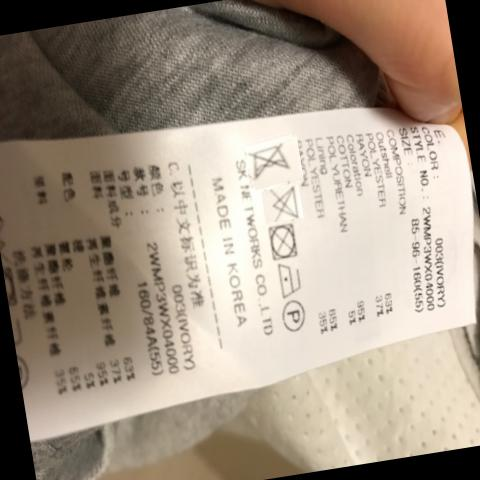DN_bleach: (270, 186, 302, 220)
DN_tumble_dry: (268, 222, 299, 260)
DN_wash: (249, 139, 290, 180)
dry_clean_any_solvent_except_trichloroethylene: (280, 300, 311, 334)
iron_low: (274, 264, 307, 300)
